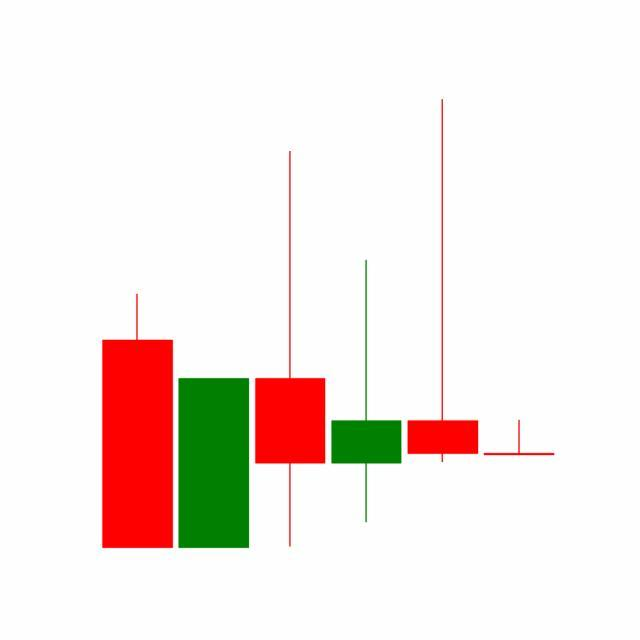Gravestone Doji: (404, 96, 482, 467)
